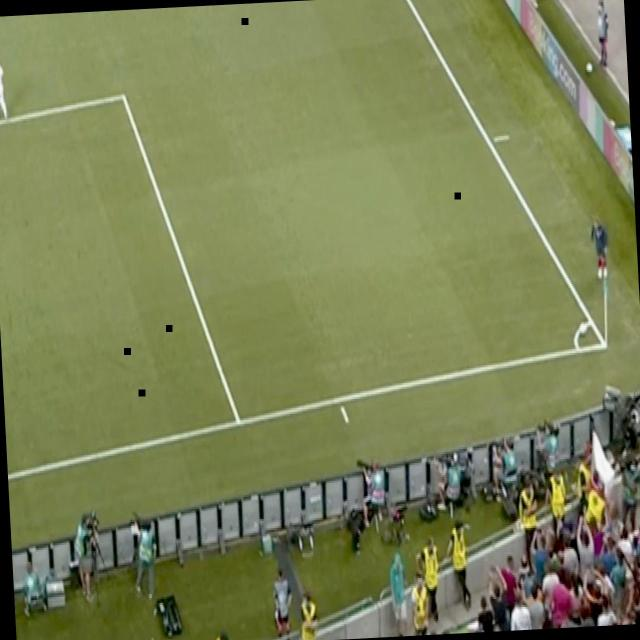ball: (584, 61, 594, 74), (578, 321, 587, 335)
player-white: (587, 213, 612, 283), (0, 56, 8, 123)
